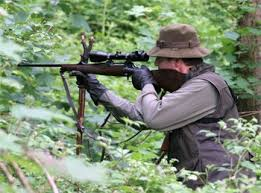rifle: (18, 52, 186, 90)
